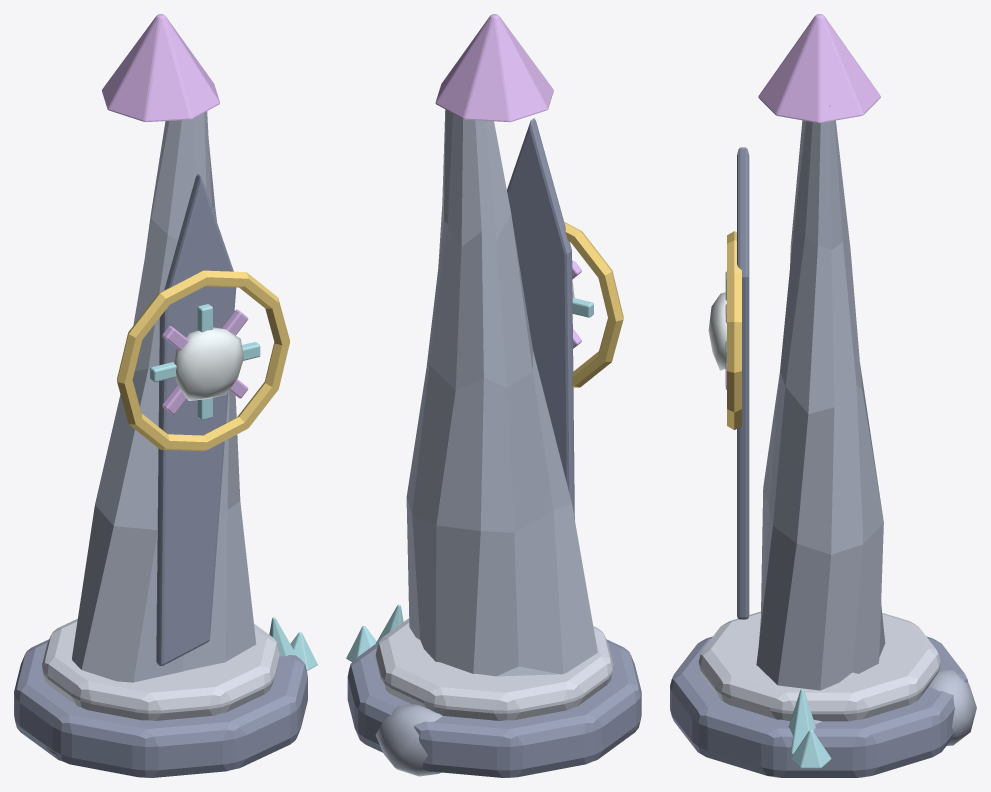
The model's file is northern_spirit_stone.glb.
The picture shows the model from 3 angles, left to right: view 1: azimuth 30°, elevation 25°; view 2: azimuth 150°, elevation 25°; view 3: azimuth 270°, elevation 25°; orthographic projection.
Parts seen in each view (by area): view 1: northern_spirit_stone.001; view 2: northern_spirit_stone.001; view 3: northern_spirit_stone.001.
Part boxes in pixels (x1=…): northern_spirit_stone.001: x1=14, y1=14, x2=317, y2=777; northern_spirit_stone.001: x1=346, y1=14, x2=641, y2=777; northern_spirit_stone.001: x1=670, y1=14, x2=976, y2=777.
Size of the model in its own units: 3.63 by 9.16 by 3.53.
